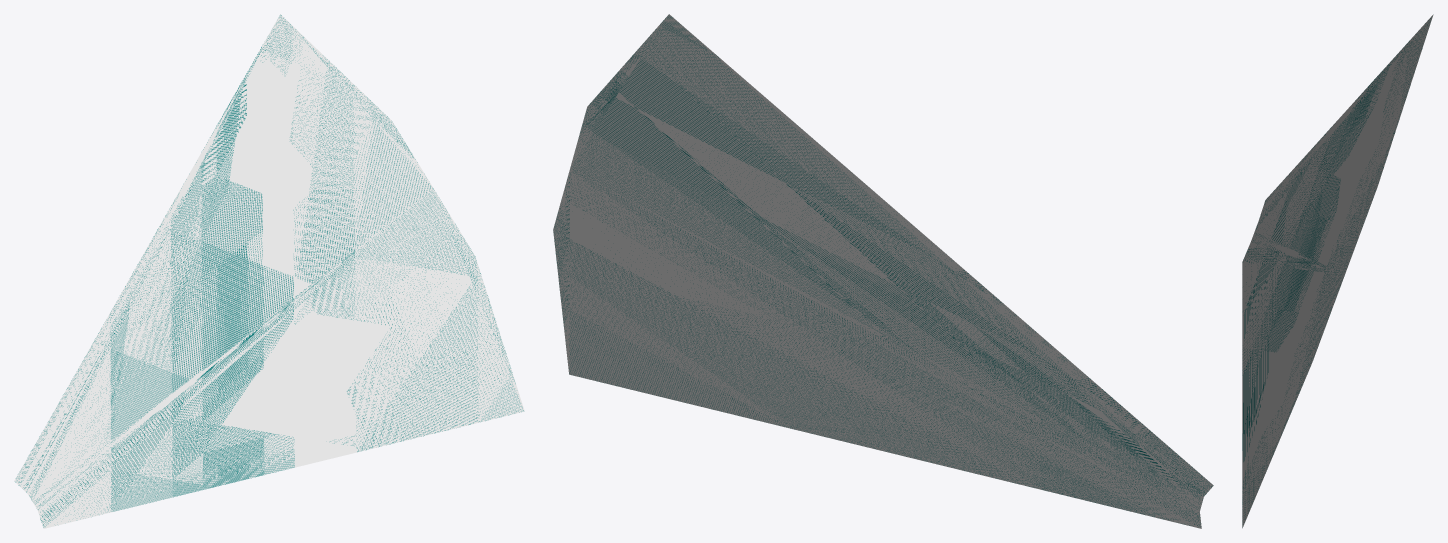
Rendered from original-24.obj.
3 views of the same model, side by side, from view 1: azimuth 30°, elevation 25°; view 2: azimuth 150°, elevation 25°; view 3: azimuth 270°, elevation 25° (orthographic). The views are drawn at different scales.
Visible parts, largest first — view 1: Group1/mesh7/mesh7-geometry/material_4#mesh7-geometry; view 2: Group1/mesh7/mesh7-geometry/material_4#mesh7-geometry; view 3: Group1/mesh7/mesh7-geometry/material_4#mesh7-geometry.
Boxes of the visible parts, left/top/right/bottom form: Group1/mesh7/mesh7-geometry/material_4#mesh7-geometry: left=14, top=14, right=524, bottom=528; Group1/mesh7/mesh7-geometry/material_4#mesh7-geometry: left=553, top=14, right=1213, bottom=528; Group1/mesh7/mesh7-geometry/material_4#mesh7-geometry: left=1242, top=14, right=1433, bottom=528.
Bounding box in the file's own units: 0.0725 × 0.0519 × 0.0211.
